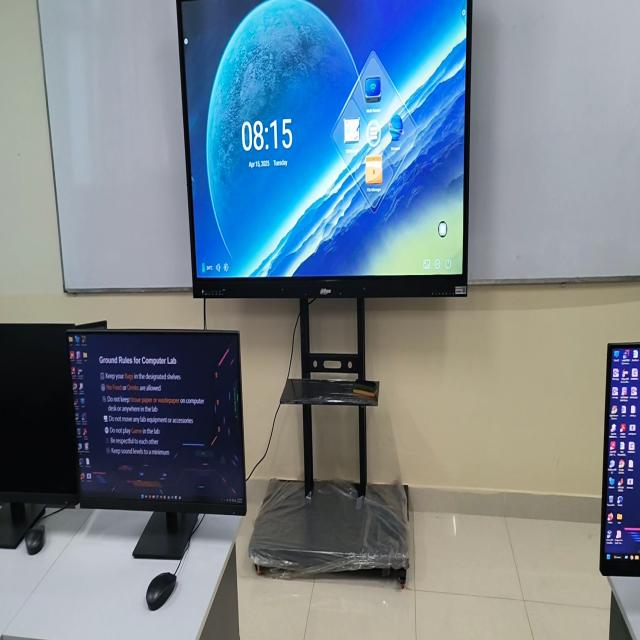Digital board: (177, 0, 471, 583)
Monitor: (67, 326, 246, 560), (0, 324, 79, 549), (600, 343, 640, 576), (73, 320, 107, 330)
Mouse: (146, 572, 176, 610), (25, 525, 45, 554)
